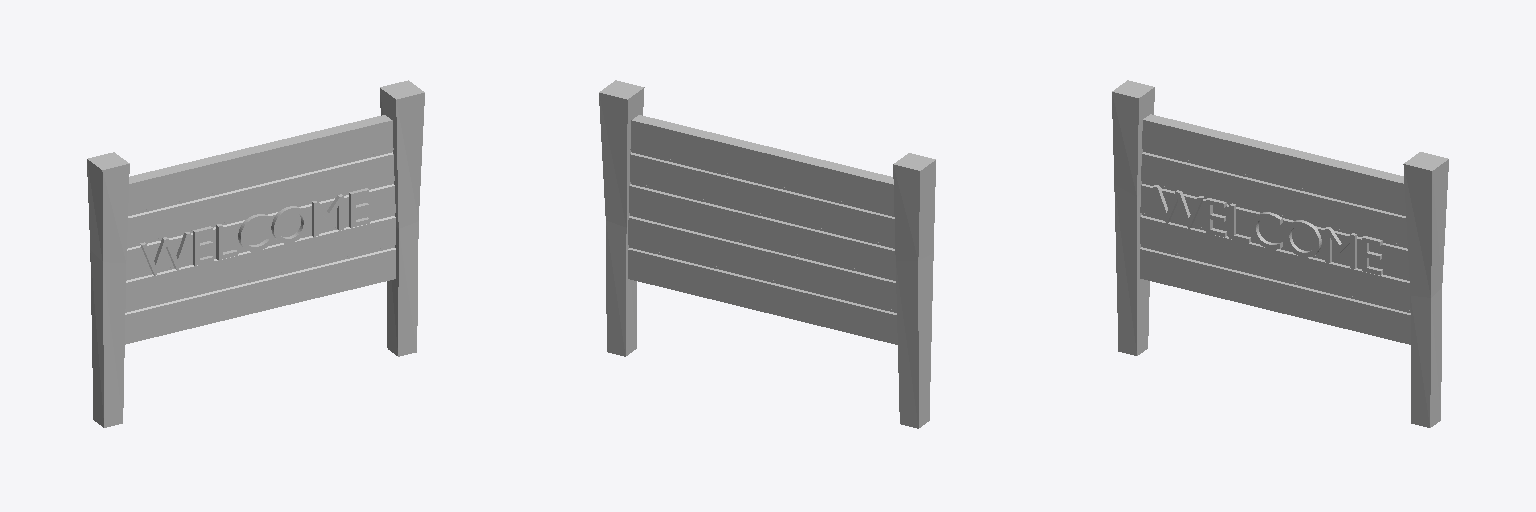
File: welcome-sign.obj
3 views of the same model, side by side, from view 1: azimuth 30°, elevation 25°; view 2: azimuth 150°, elevation 25°; view 3: azimuth 330°, elevation 25° (orthographic).
Parts seen in each view (by area): view 1: Text; view 2: Text; view 3: Text.
Part boxes in pixels (left/top/right/bottom): Text: left=87, top=80, right=424, bottom=427; Text: left=599, top=80, right=935, bottom=428; Text: left=1112, top=80, right=1448, bottom=427.
Size of the model in its own units: 2.72 by 2.11 by 0.2464.